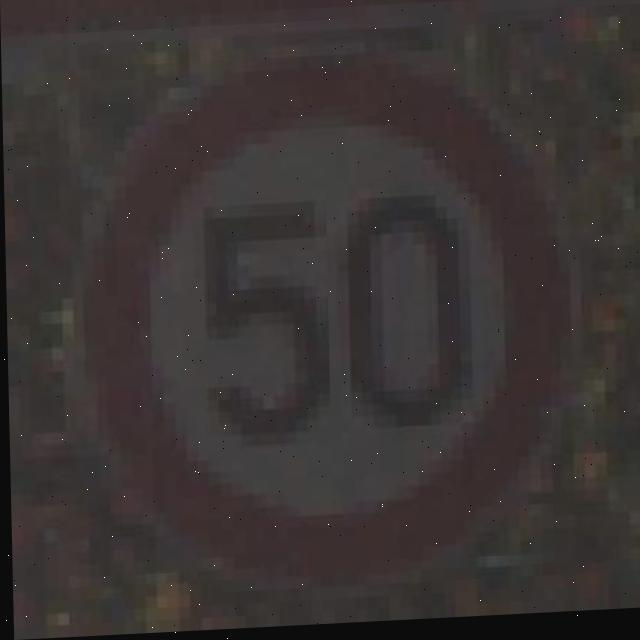Speed limit 50: (81, 47, 576, 573)
